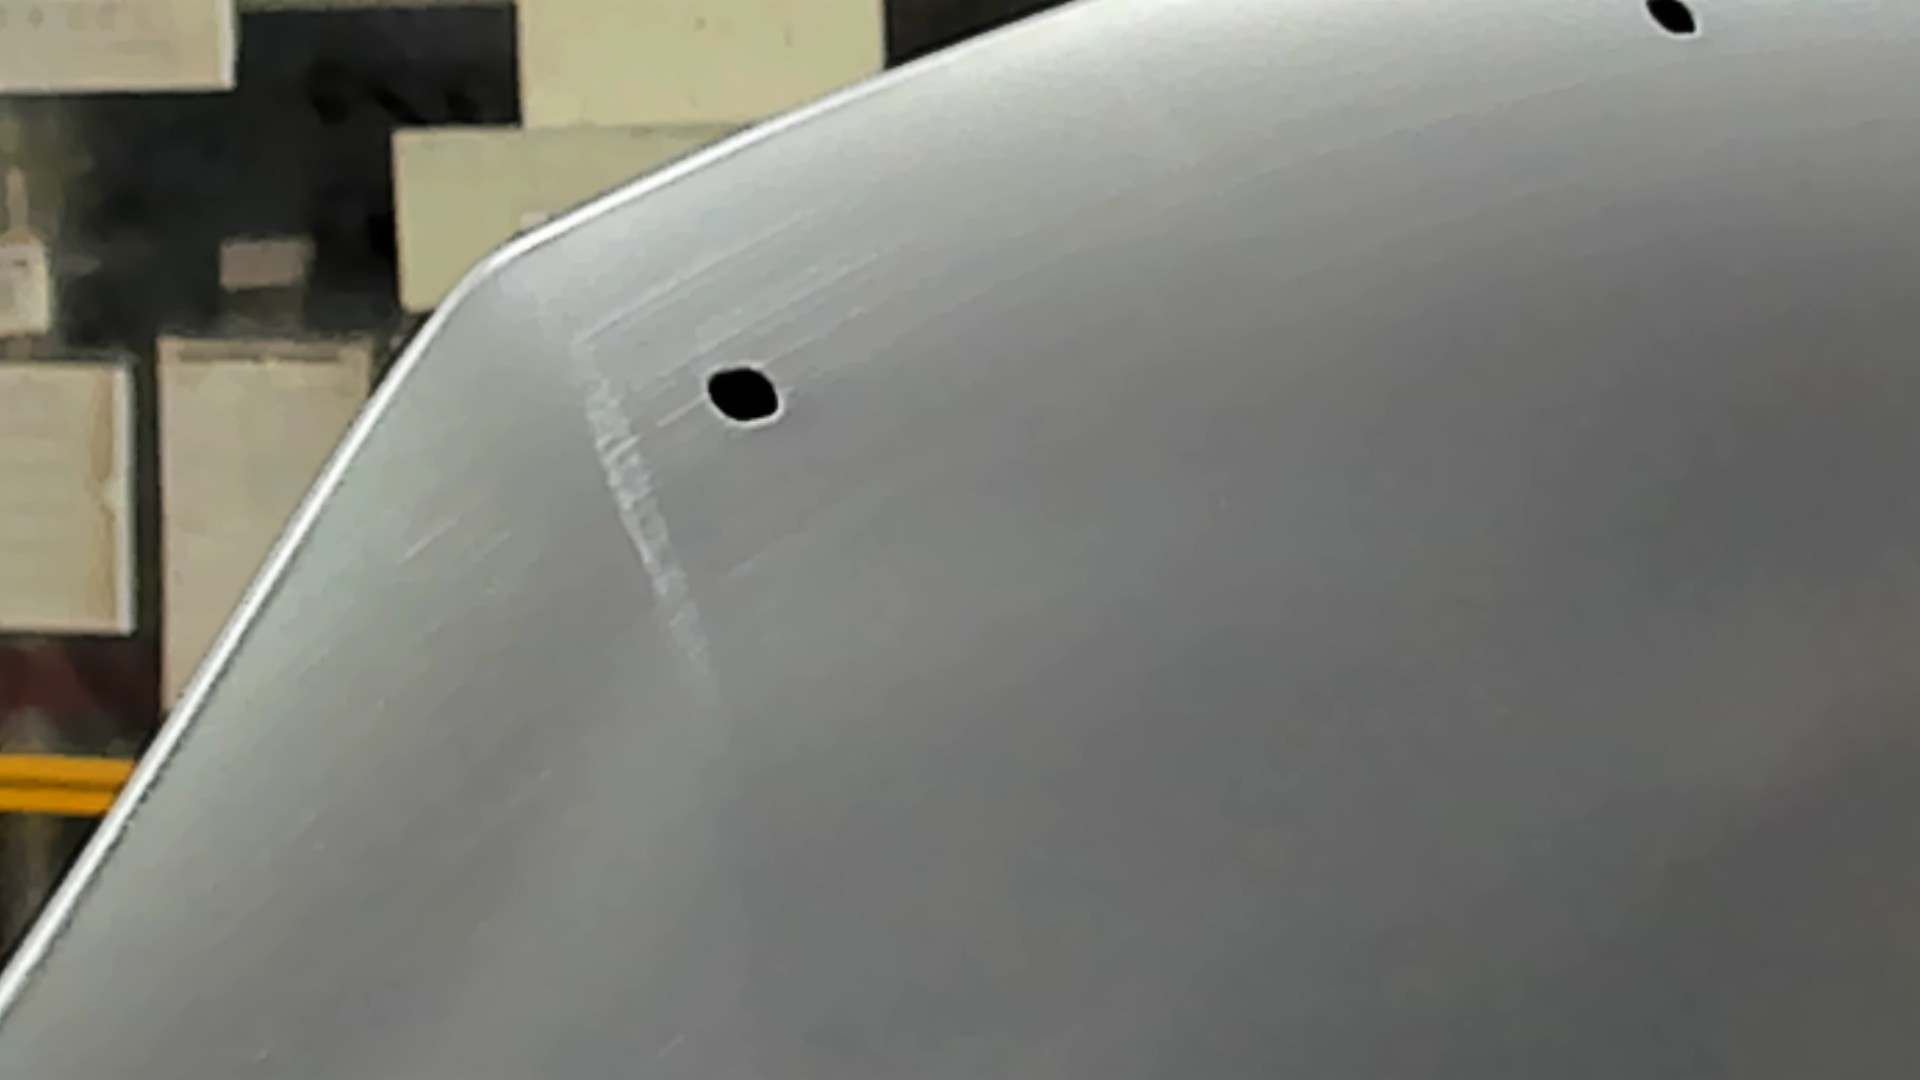amorfo: (698, 360, 793, 431), (1636, 1, 1710, 49)
